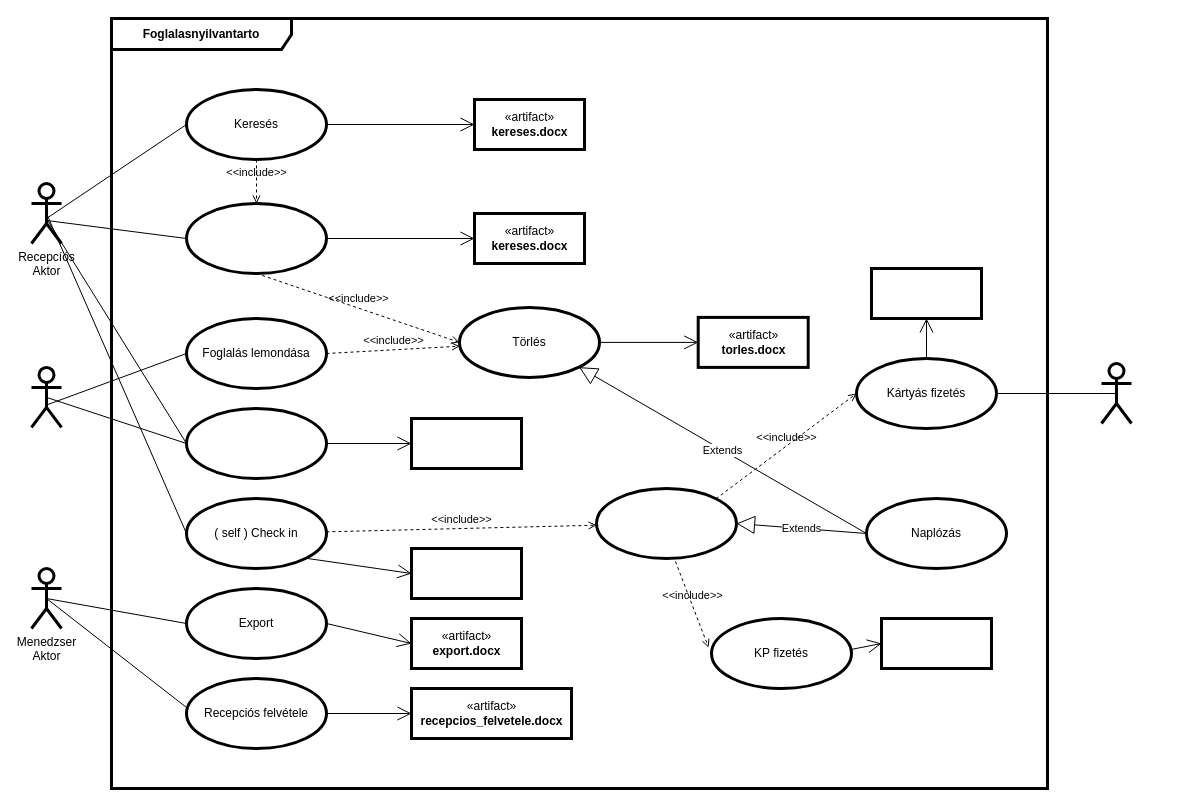
This 1200x807 diagram has some shape labels left out. Each missing label, with the centre of its shape:
Fizetés: point 666,523
Fizetési partner rendszer ( Mock Bank ): point 1116,393
Foglalás: point 256,443
Listázás: point 256,238
Vendég Aktor: point 46,396
«artifact» adatbevitel.docx: point 466,443
«artifact» check_in.docx: point 466,573
«artifact» fizetes_kartya.docx: point 926,293
«artifact» fizetes_kp.docx: point 936,643
